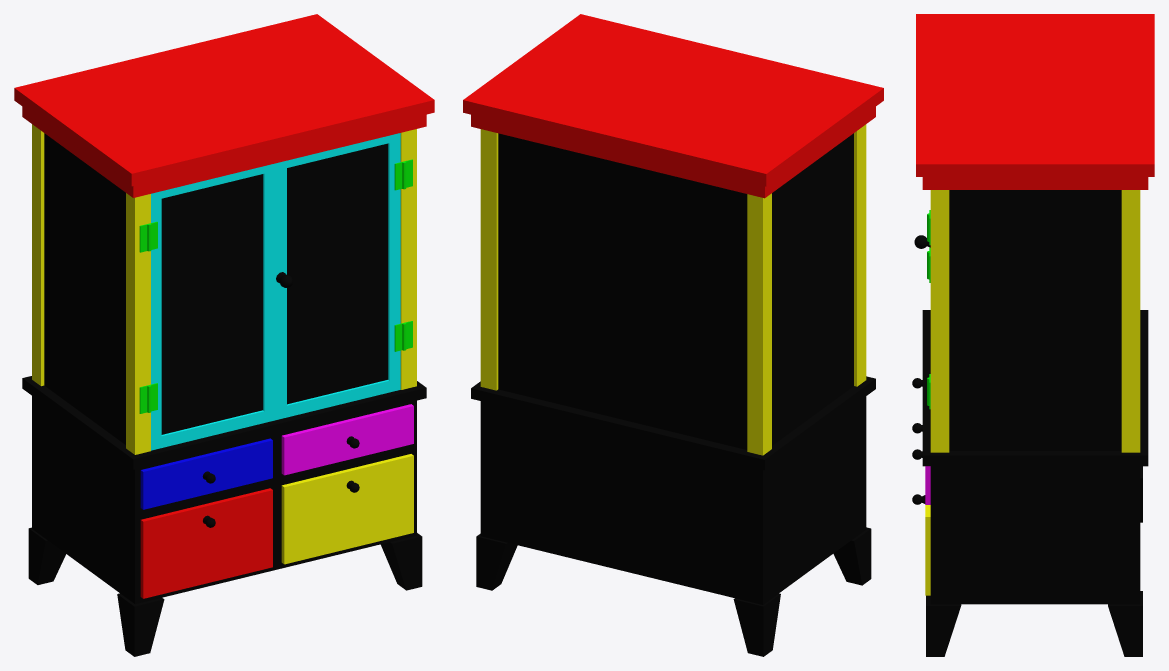
File: Abbie - ChemicalBottleCabinet.fbx
3 views of the same model, side by side, from view 1: azimuth 30°, elevation 25°; view 2: azimuth 150°, elevation 25°; view 3: azimuth 270°, elevation 25° (orthographic).
Visible parts, largest first — view 1: cabinet_LP; view 2: cabinet_LP; view 3: cabinet_LP.
Boxes of the visible parts, bbox=[...] form: cabinet_LP: bbox=[14, 14, 434, 656]; cabinet_LP: bbox=[463, 14, 883, 656]; cabinet_LP: bbox=[912, 14, 1154, 656].
Bounding box in the file's own units: 1.34 × 2.07 × 0.9168.
